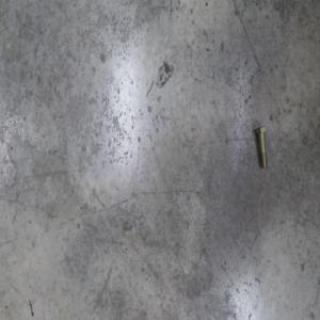Bolttrack_idkeyframe: (254, 124, 267, 169)
